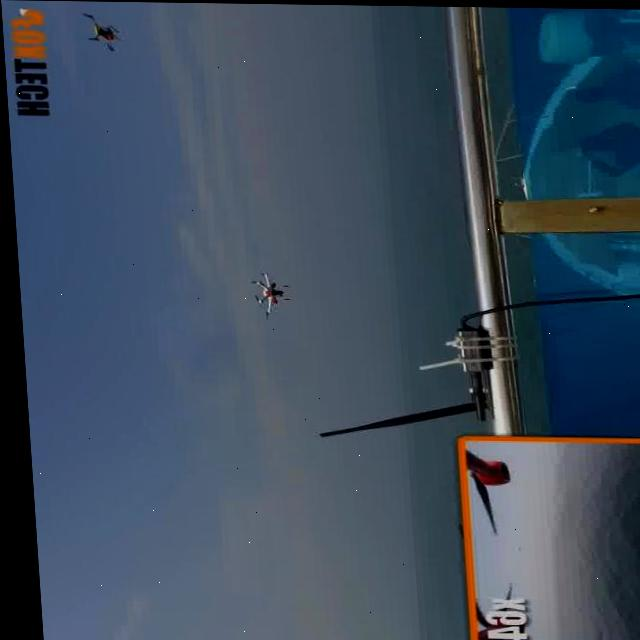drone: (71, 4, 128, 54)
